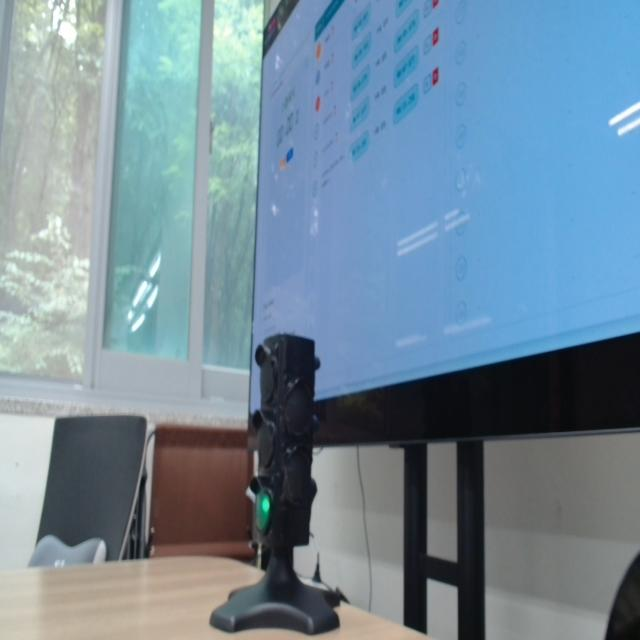green_light: (256, 491, 271, 533), (262, 497, 270, 513)
